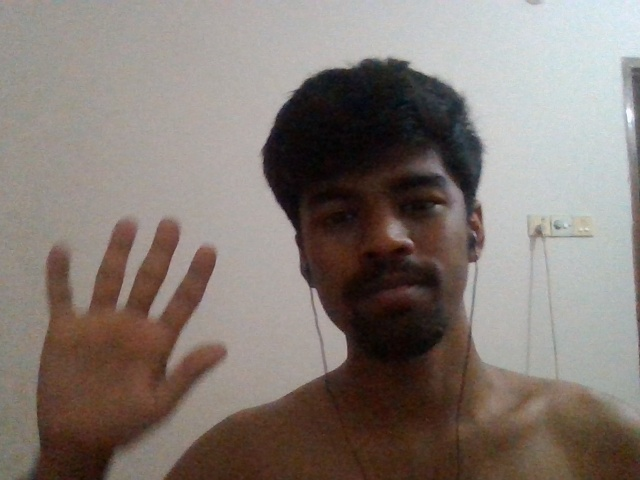Hello: (30, 208, 230, 448)
